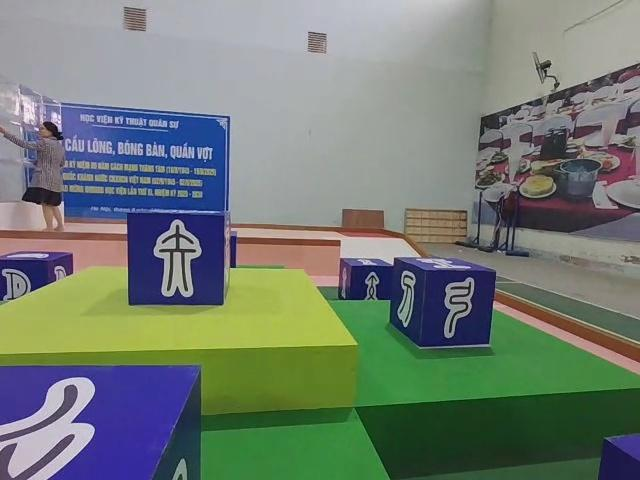R2 Fake Blue: (2, 364, 199, 480), (128, 211, 231, 309), (0, 251, 72, 306)
R2 Real Blue: (387, 256, 495, 350), (0, 251, 72, 306), (338, 257, 397, 301)
